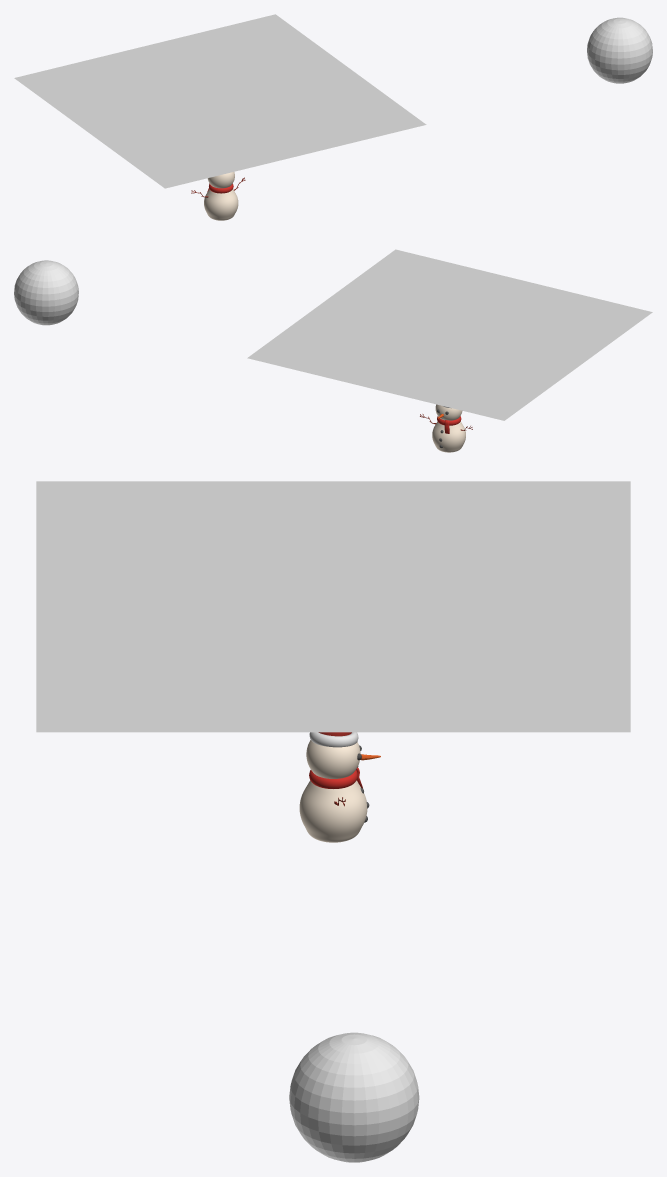
Rendered from snegovik.glb.
The picture shows the model from 3 angles, top to bottom: view 1: azimuth 30°, elevation 25°; view 2: azimuth 150°, elevation 25°; view 3: azimuth 270°, elevation 25°; orthographic projection. The views are drawn at different scales.
Visible parts, largest first — view 1: Плоскость, Сфера, Тело; view 2: Плоскость, Сфера, Тело; view 3: Плоскость, Сфера, Тело.
Boxes of the visible parts, x1,y1,x2,y2 form: Плоскость: (14, 14, 426, 188); Сфера: (587, 17, 652, 83); Тело: (191, 172, 245, 220); Плоскость: (247, 249, 652, 420); Сфера: (14, 260, 78, 325); Тело: (420, 404, 472, 452); Плоскость: (36, 481, 630, 732); Сфера: (289, 1032, 419, 1162); Тело: (299, 732, 380, 842).
Bounding box in the file's own units: 37.32 × 7.3 × 17.3.
